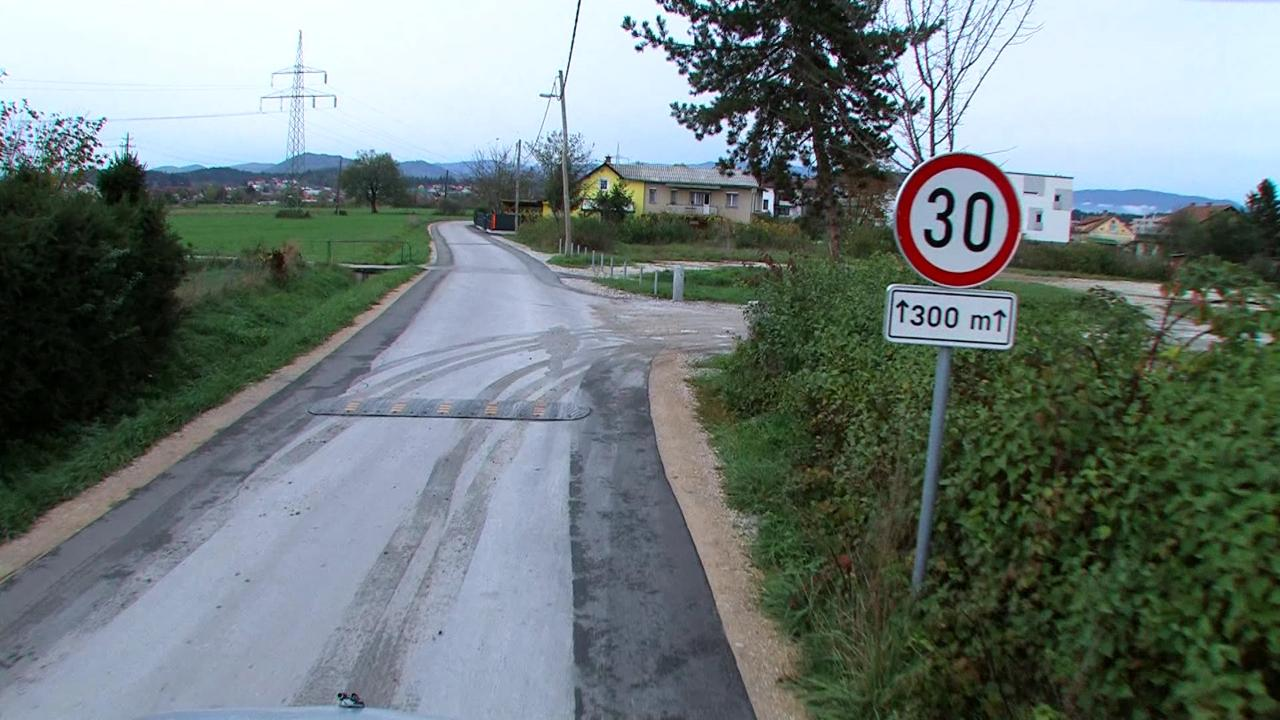Rectangle: (885, 288, 1017, 350)
Round: (893, 154, 1023, 288)
